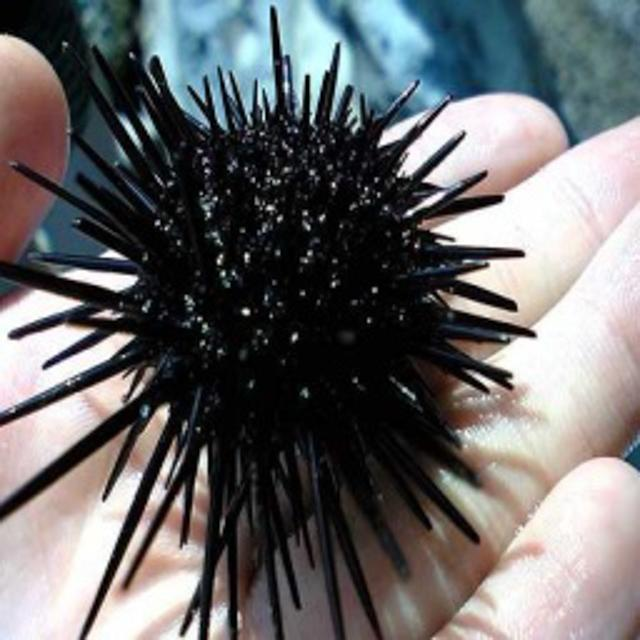Urchin: (1, 3, 539, 625)
